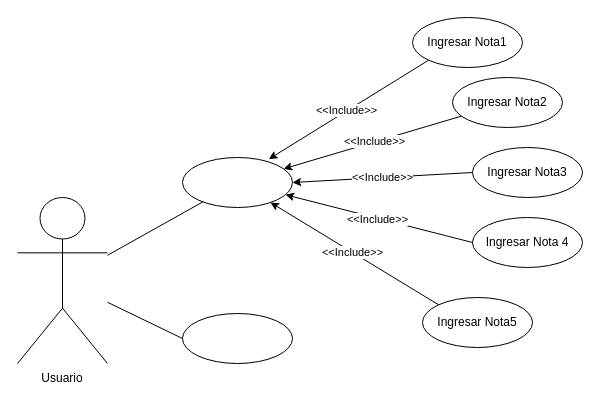
Image size: 600x411. Some labels were removed from this diagram. Here are the shapes that lost their labels. From the top down, the box of each, then its label:
(182, 156, 292, 208): Calcular
(182, 312, 292, 364): Limpiar
